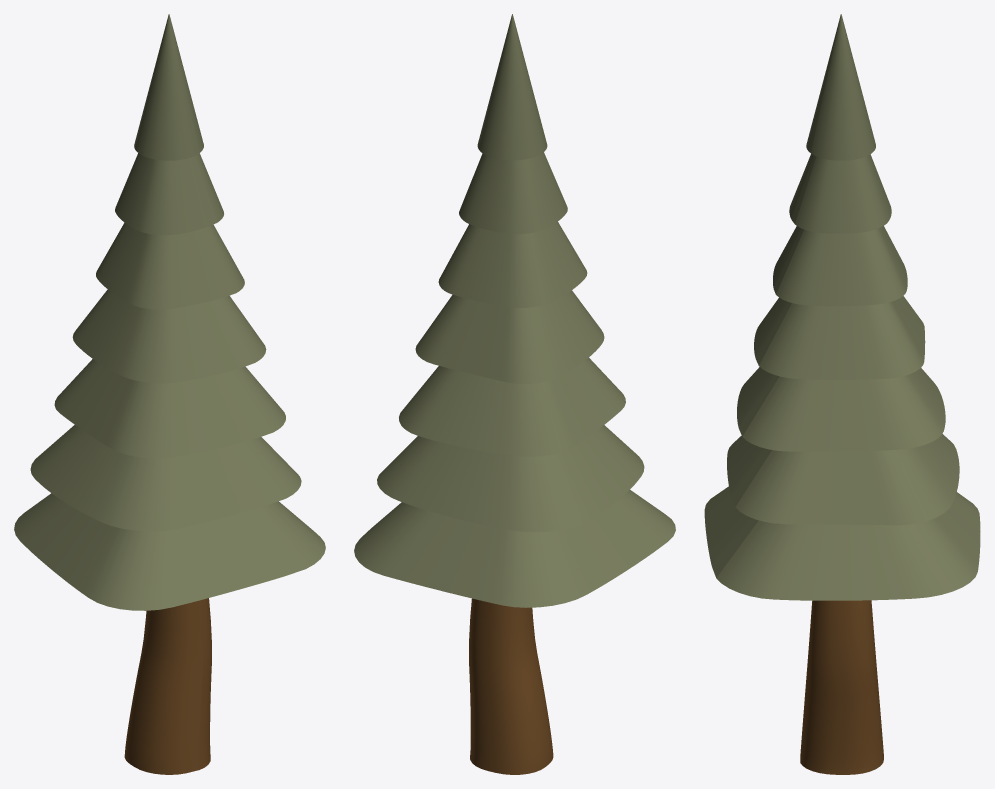
File: OriginalFirTree.glb
The picture shows the model from 3 angles, left to right: view 1: azimuth 30°, elevation 25°; view 2: azimuth 150°, elevation 25°; view 3: azimuth 270°, elevation 25°; orthographic projection.
Parts seen in each view (by area): view 1: Extrusion Spline.006, Extrusion Spline.005, Extrusion Spline.004, Trunk Extrusion Spline, Extrusion Spline.003, Extrusion Spline.002, Extrusion Spline.001, Extrusion Spline; view 2: Extrusion Spline.006, Extrusion Spline.005, Extrusion Spline.004, Trunk Extrusion Spline, Extrusion Spline.003, Extrusion Spline.002, Extrusion Spline.001, Extrusion Spline; view 3: Extrusion Spline.006, Extrusion Spline.005, Extrusion Spline.004, Trunk Extrusion Spline, Extrusion Spline.003, Extrusion Spline.002, Extrusion Spline.001, Extrusion Spline.
Part boxes in pixels (bbox=[...]): Extrusion Spline.006: bbox=[14, 493, 325, 610]; Extrusion Spline.005: bbox=[30, 425, 301, 531]; Extrusion Spline.004: bbox=[54, 359, 285, 458]; Trunk Extrusion Spline: bbox=[124, 598, 211, 774]; Extrusion Spline.003: bbox=[72, 289, 266, 383]; Extrusion Spline.002: bbox=[96, 222, 244, 309]; Extrusion Spline.001: bbox=[115, 153, 223, 235]; Extrusion Spline: bbox=[134, 14, 203, 160]; Extrusion Spline.006: bbox=[354, 490, 675, 607]; Extrusion Spline.005: bbox=[377, 425, 644, 532]; Extrusion Spline.004: bbox=[399, 358, 625, 456]; Trunk Extrusion Spline: bbox=[469, 598, 553, 774]; Extrusion Spline.003: bbox=[415, 290, 604, 384]; Extrusion Spline.002: bbox=[438, 221, 587, 307]; Extrusion Spline.001: bbox=[459, 152, 567, 234]; Extrusion Spline: bbox=[477, 14, 547, 160]; Extrusion Spline.006: bbox=[704, 486, 980, 600]; Extrusion Spline.005: bbox=[727, 434, 959, 525]; Extrusion Spline.004: bbox=[737, 367, 945, 451]; Trunk Extrusion Spline: bbox=[800, 600, 883, 774]; Extrusion Spline.003: bbox=[754, 296, 925, 379]; Extrusion Spline.002: bbox=[773, 226, 907, 306]; Extrusion Spline.001: bbox=[789, 154, 891, 233]; Extrusion Spline: bbox=[806, 14, 875, 160].
Bounding box in the file's own units: 1.23 × 3.66 × 1.23.
